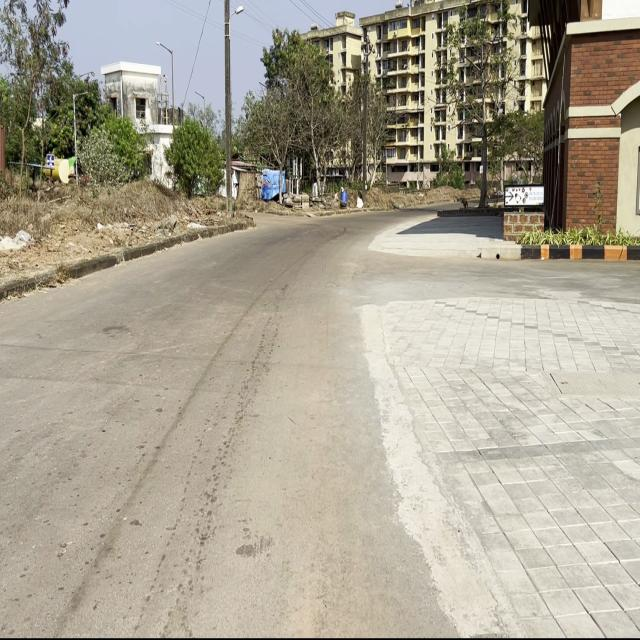Road: (0, 213, 456, 636)
